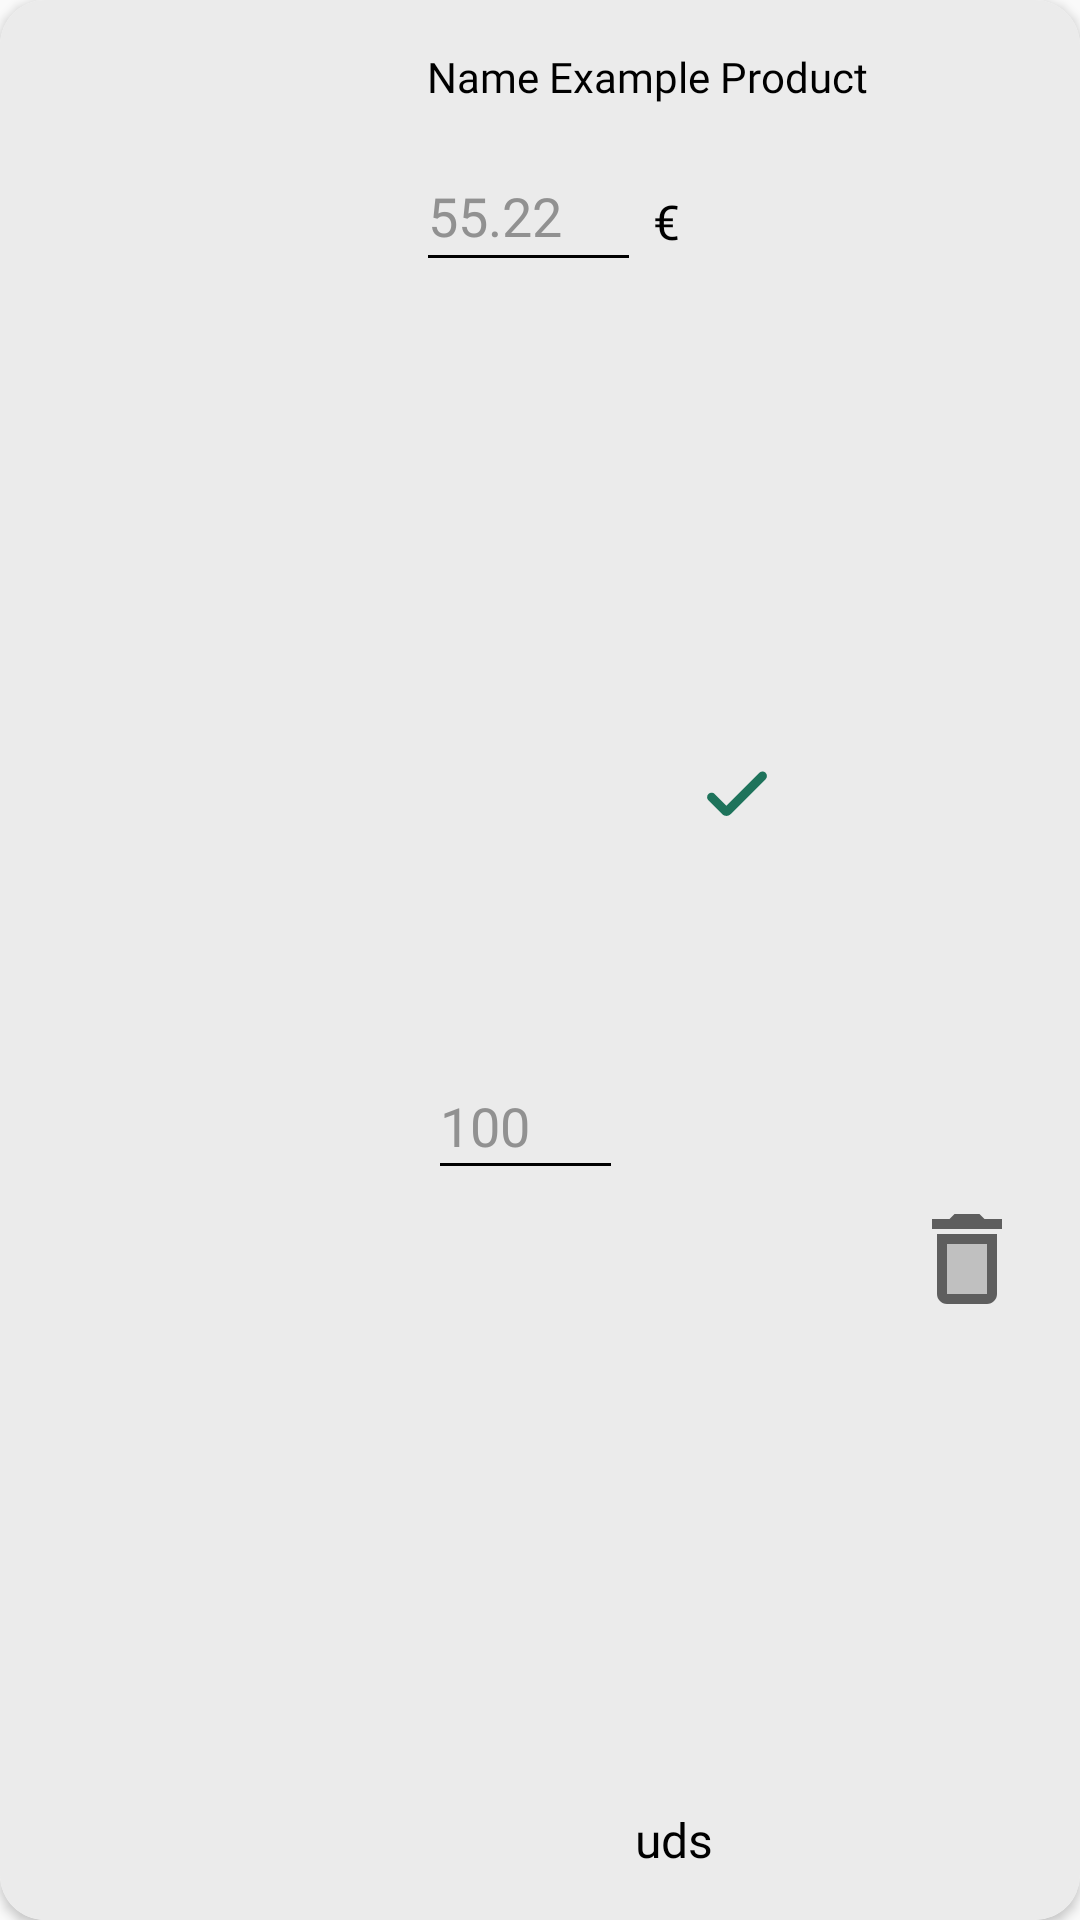

Where icons sit on this 1080px x 1920px app screen, as bbox=[x1, y1, x2, y2]:
check: bbox=[707, 771, 767, 816]
delete: bbox=[932, 1214, 1002, 1304]
